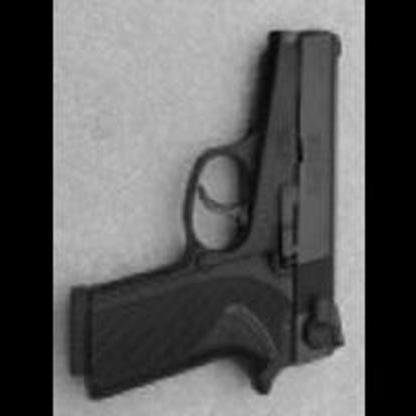weapon: (65, 27, 350, 403)
